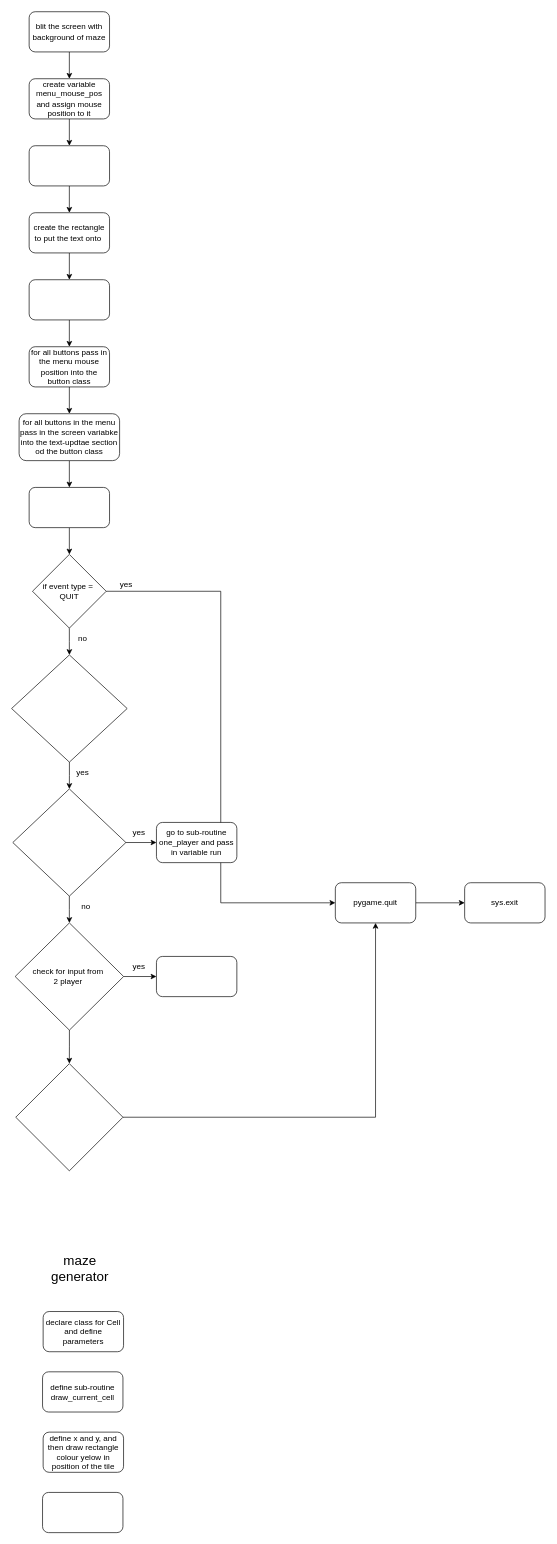
The diagram is 557 pixels wide and 1544 high, and some of its shapes have lost their labels. The centre of each missing label's shape, as x and y in pixels:
"check for input from 1 player button" goes at point 69,842.
"check for input from quit button" goes at point 69,1117.
"create the one player, two player and quit buttons using the button class" goes at point 69,299.
"create the text for the heading using the render built in function" goes at point 69,165.
"get events in pygame.events library" goes at point 69,507.
"go to sub-routine two_player and pass in the variable run" goes at point 196,976.
"if event type = MOUSEBUTTONDOWN" goes at point 69,708.
